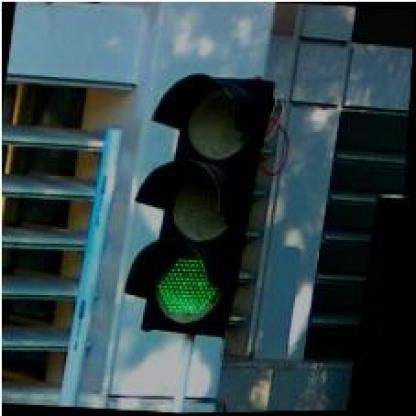green: (120, 71, 276, 340)
